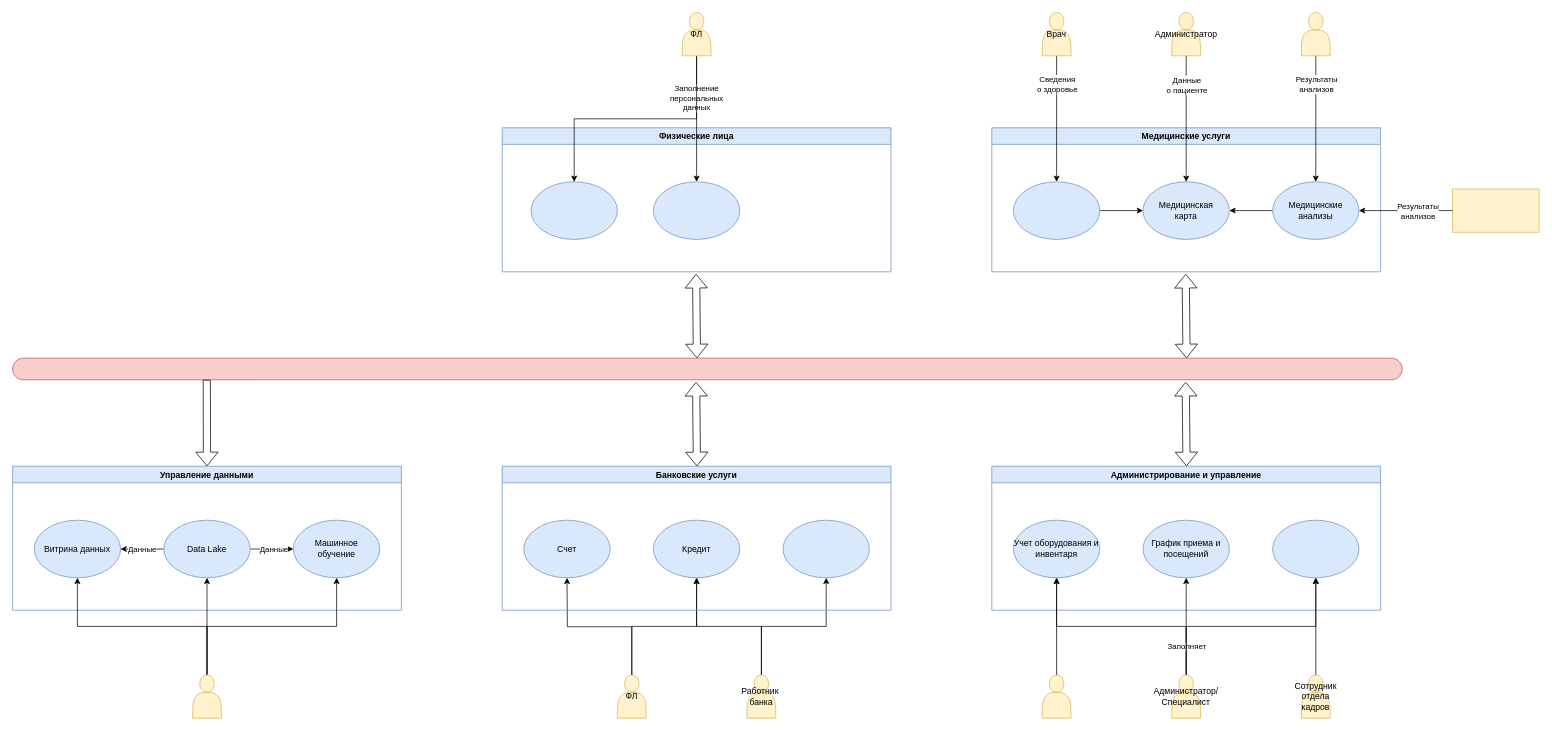
Image size: 1552x731. Some labels were removed from this diagram. Each missing label, with the centre of its shape:
"Data Analyst" belongs at point (206, 696).
"Бухгалтер" belongs at point (1056, 696).
"Документооборот" belongs at point (1315, 548).
"История финансовых операций" belongs at point (825, 548).
"Лаборант" belongs at point (1315, 34).
"Лаборатории" belongs at point (1495, 210).
"Медицинские назначения" belongs at point (1056, 210).
"Обмен сообщениями" belongs at point (707, 368).
"Продуктовый профиль" belongs at point (573, 210).
"Форма регистрации" belongs at point (696, 210).
